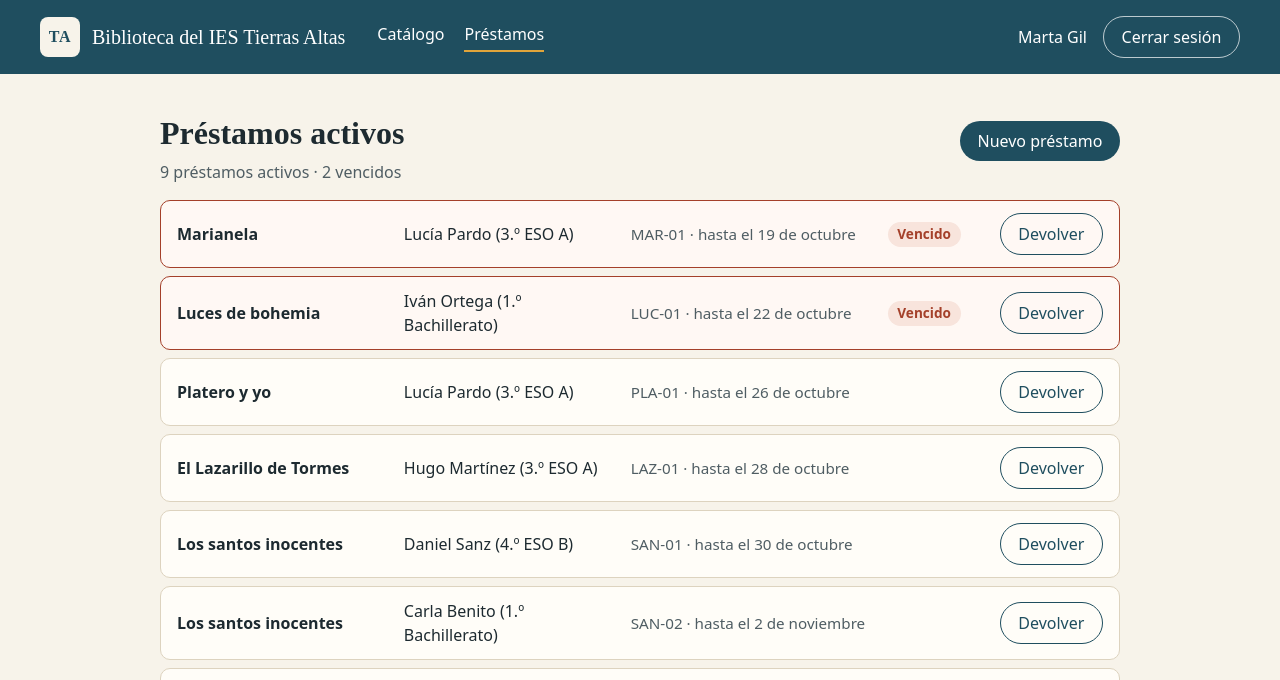
it: Un préstamo nuevo › se llega desde la lista de préstamos
The width and height of the screenshot is (1280, 680).
Click the link "Nuevo préstamo": (1040, 141) [960,121,1120,161]
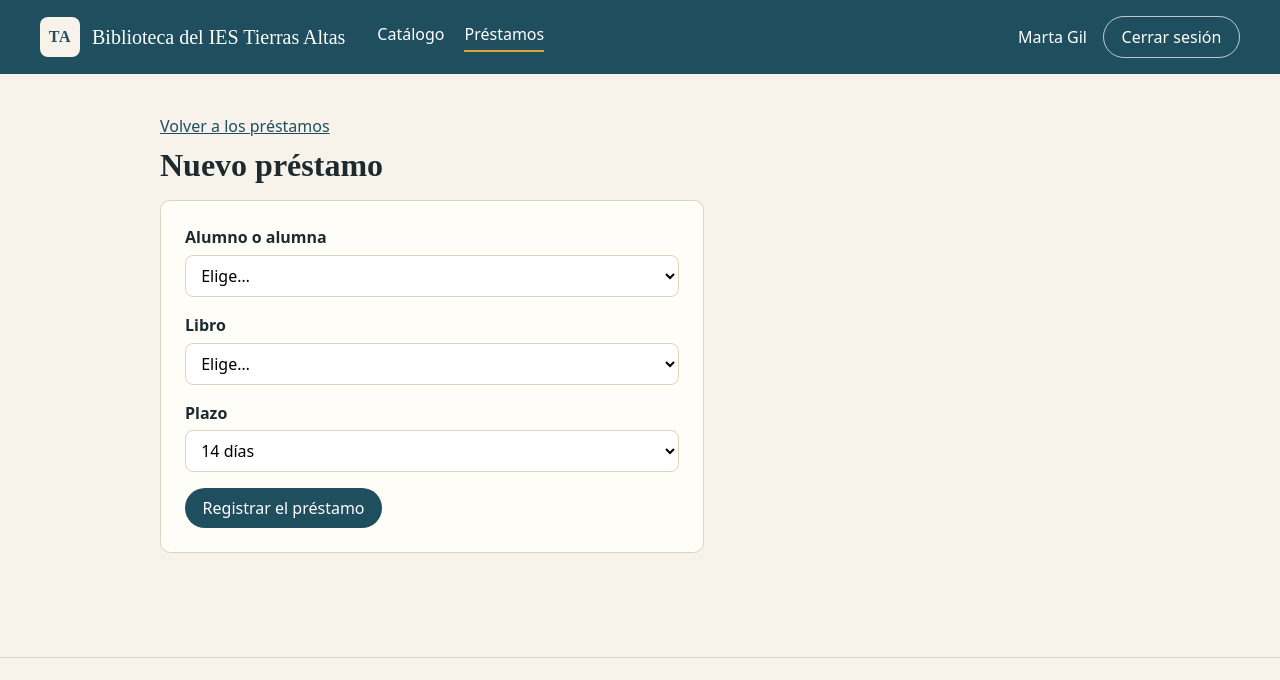
Expected: the heading "Nuevo préstamo" is shown, [160,147,383,183]
